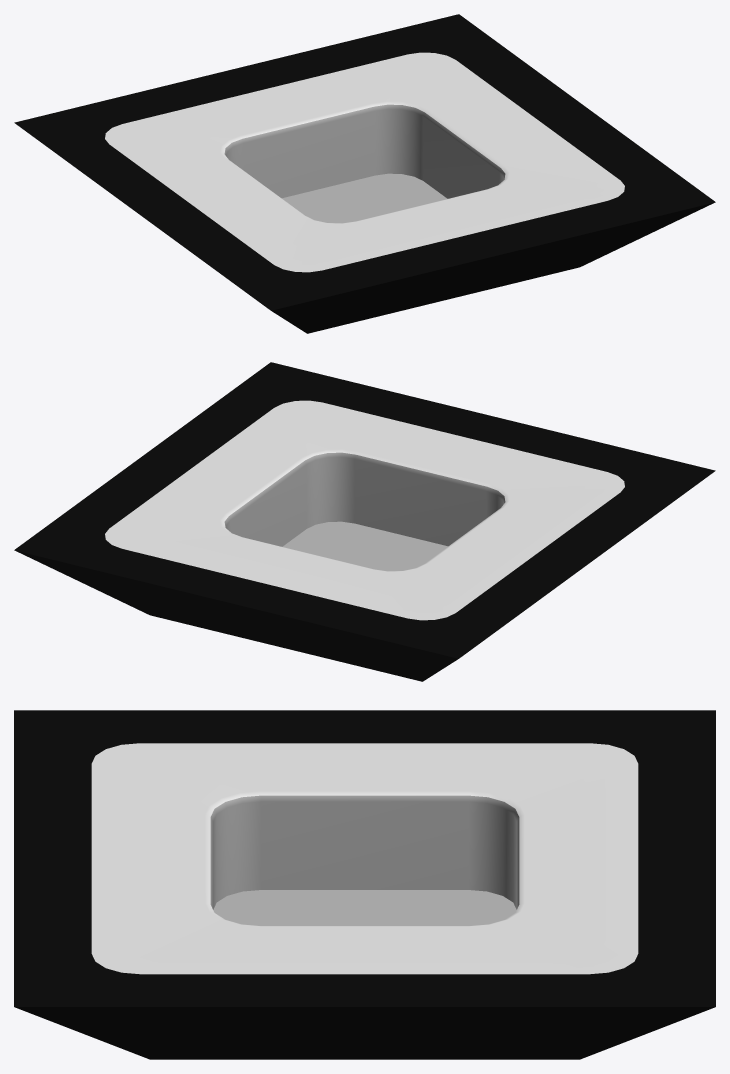
File: Cell_White_V3.fbx
3 renders of one model, top to bottom at view 1: azimuth 30°, elevation 25°; view 2: azimuth 150°, elevation 25°; view 3: azimuth 270°, elevation 25°, orthographic. The views are drawn at different scales.
Parts seen in each view (by area): view 1: Tile_White, Cell_Border; view 2: Tile_White, Cell_Border; view 3: Tile_White, Cell_Border.
Boxes of the visible parts, x1,y1,x2,y2 form: Tile_White: (105, 52, 624, 272); Cell_Border: (14, 14, 715, 333); Tile_White: (105, 400, 624, 620); Cell_Border: (14, 362, 715, 681); Tile_White: (91, 743, 638, 974); Cell_Border: (14, 710, 715, 1059).
Size of the model in its own units: 112 by 19.36 by 112.
